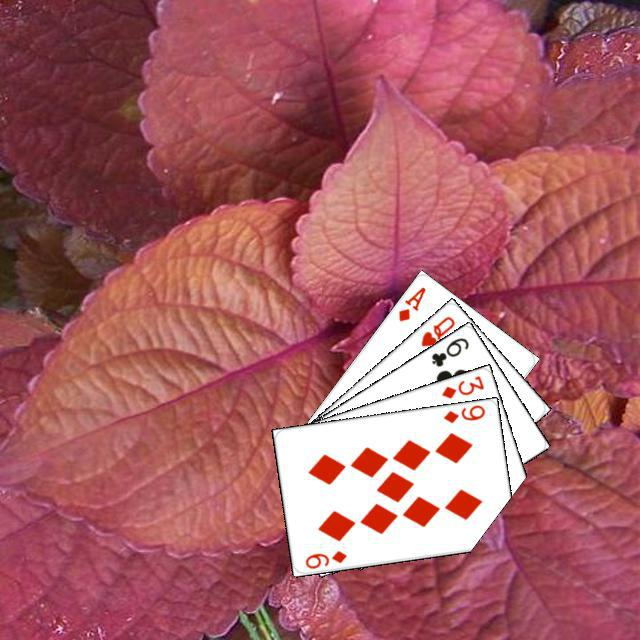3d: (437, 371, 486, 400)
6c: (426, 333, 471, 369)
9d: (300, 545, 348, 570), (438, 401, 487, 424)
Ad: (393, 281, 428, 323)
Qh: (416, 311, 456, 348)
